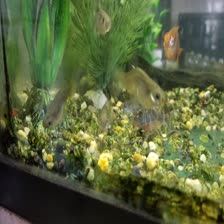Guppy: (37, 77, 84, 134), (112, 64, 169, 110), (88, 1, 110, 37)
Transparente: (159, 19, 190, 62)
